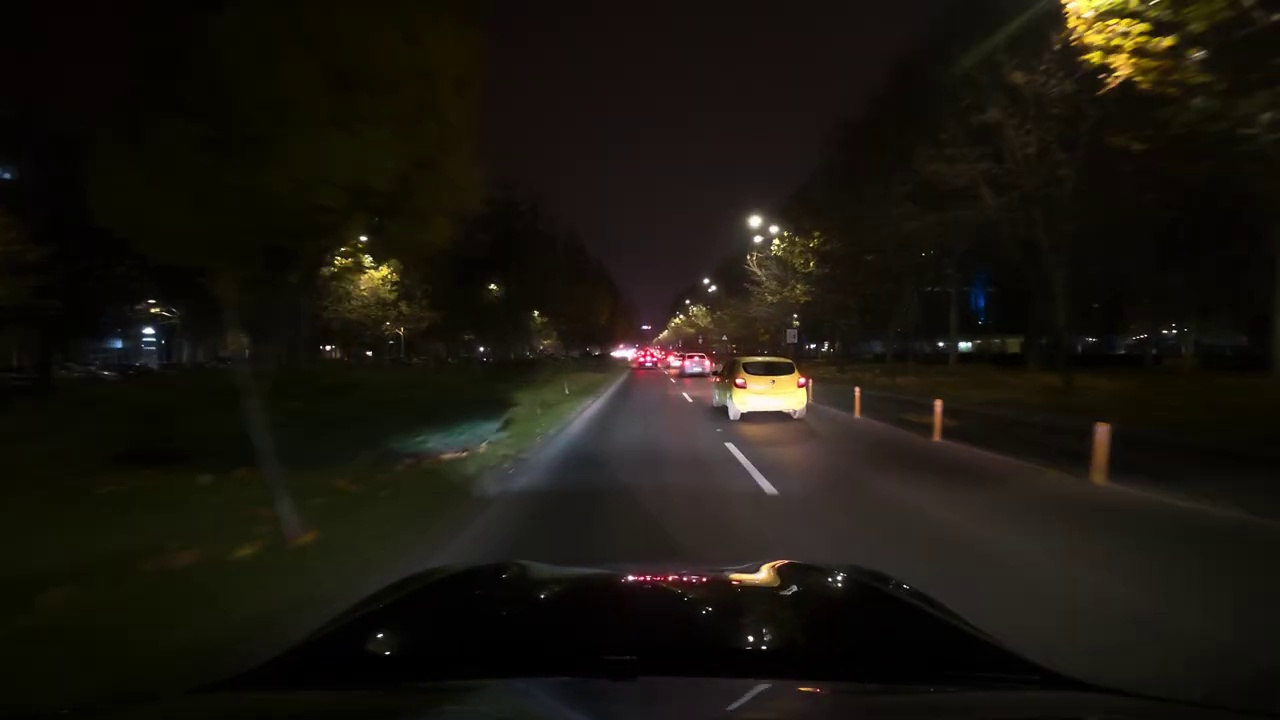acesa: (743, 211, 770, 236)
